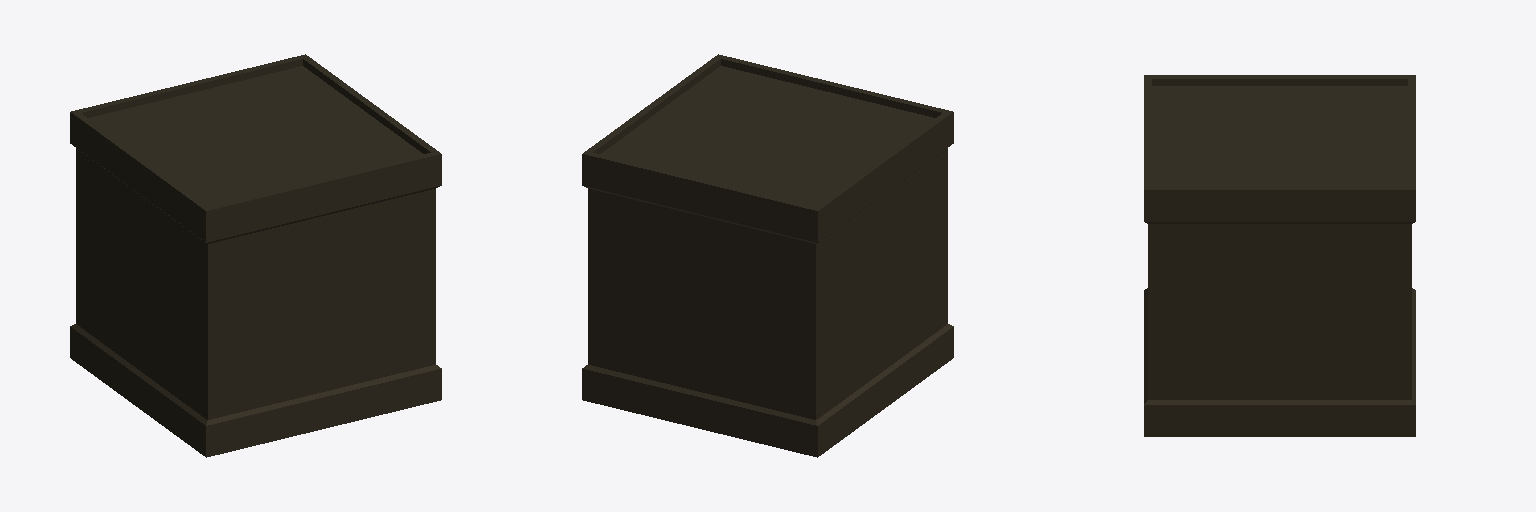
File: crate2.obj
3 renders of one model, left to right at view 1: azimuth 30°, elevation 25°; view 2: azimuth 150°, elevation 25°; view 3: azimuth 270°, elevation 25°, orthographic.
Visible parts, largest first — view 1: Mesh3_SquareBox01_1_Model; view 2: Mesh3_SquareBox01_1_Model; view 3: Mesh3_SquareBox01_1_Model.
Boxes of the visible parts, x1,y1,x2,y2 form: Mesh3_SquareBox01_1_Model: [70, 54, 441, 457]; Mesh3_SquareBox01_1_Model: [582, 54, 953, 457]; Mesh3_SquareBox01_1_Model: [1144, 75, 1415, 436].
Bounding box in the file's own units: 5.59 × 5.59 × 5.59.